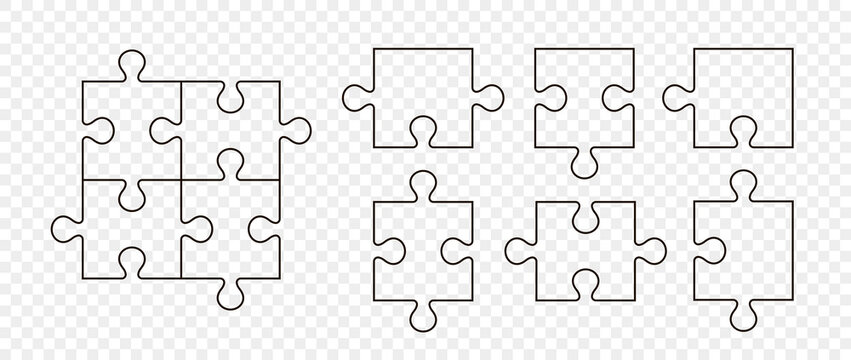puzzle piece: (71, 42, 188, 215), (501, 194, 673, 310), (31, 176, 214, 284), (686, 165, 802, 335), (148, 71, 317, 187), (368, 165, 480, 340), (340, 42, 510, 153), (174, 146, 287, 307), (661, 42, 801, 157), (528, 42, 640, 184)
